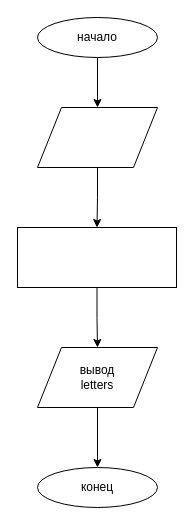
This 194x525 diagram has some shape labels left out. Each missing label, with the centre of its shape:
letters = chr(a + ord('a') -1): the point at 96,257
ввод a: int: the point at 97,137
